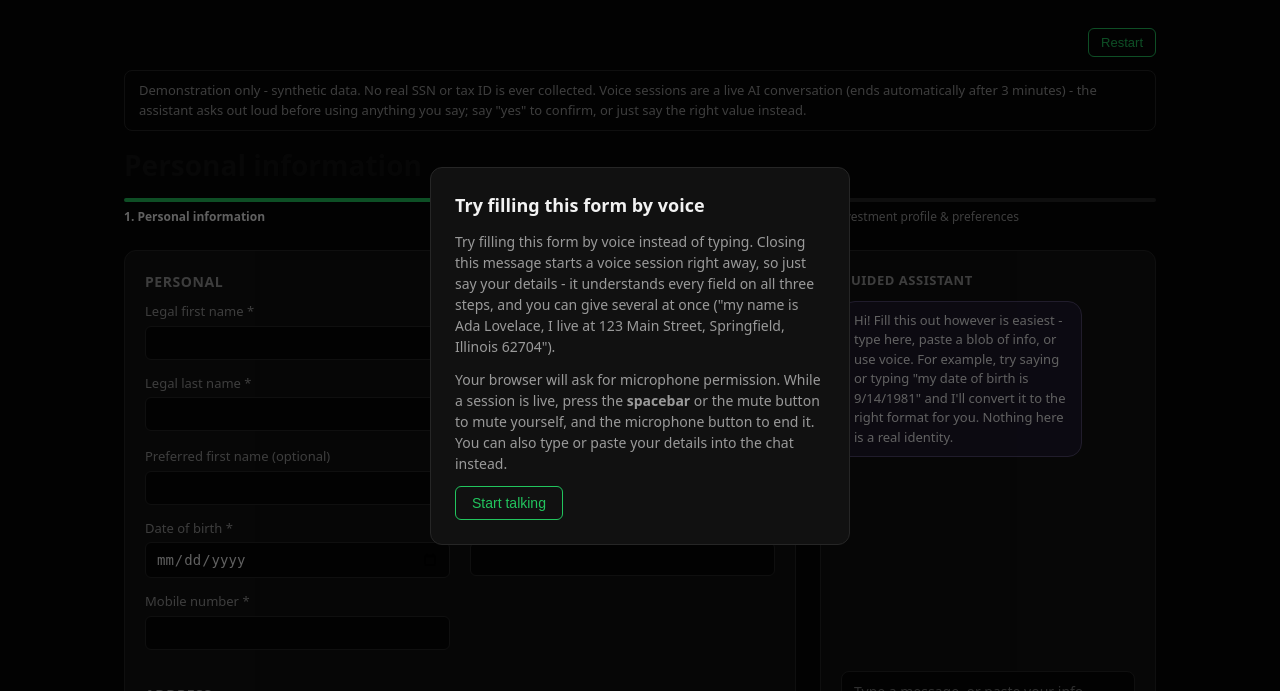
Test case: PersonalInformationPage › shows a generic message when nothing could be extracted from the message
The width and height of the screenshot is (1280, 691).
Click the button "Start talking": (509, 503) 455,486 -> 563,520
(page scrolled)
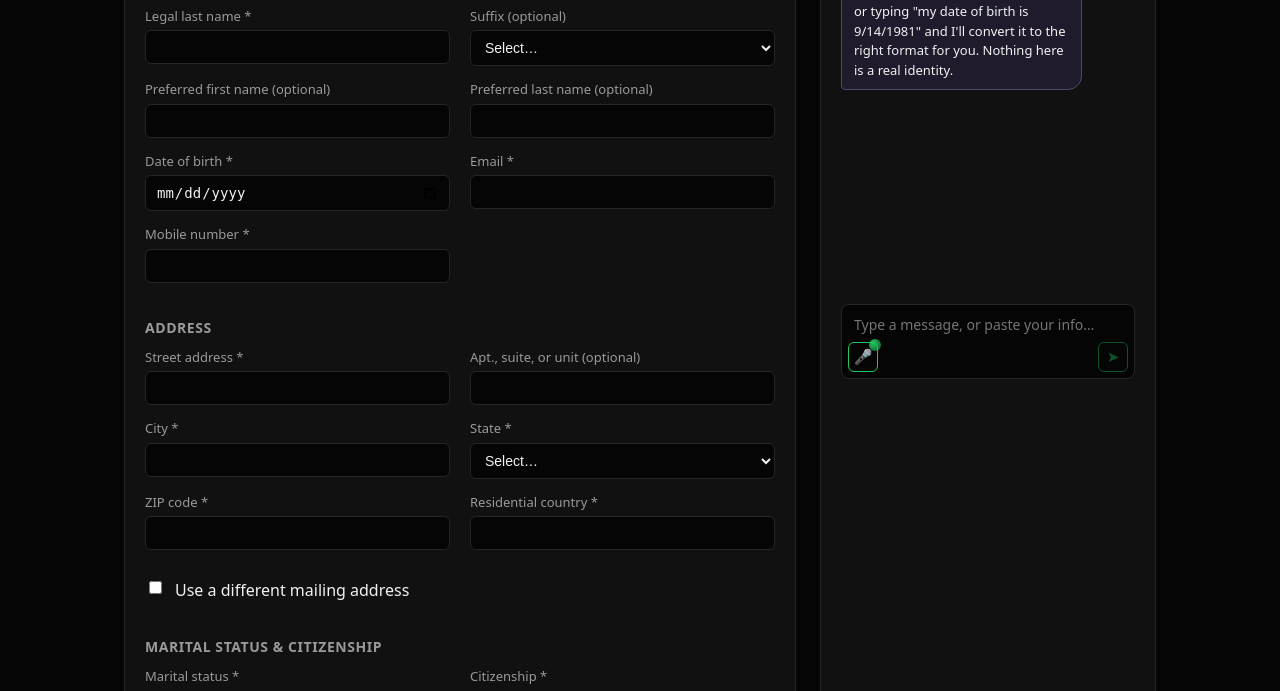
Click the button "🎤": (863, 356) 848,342 -> 878,372
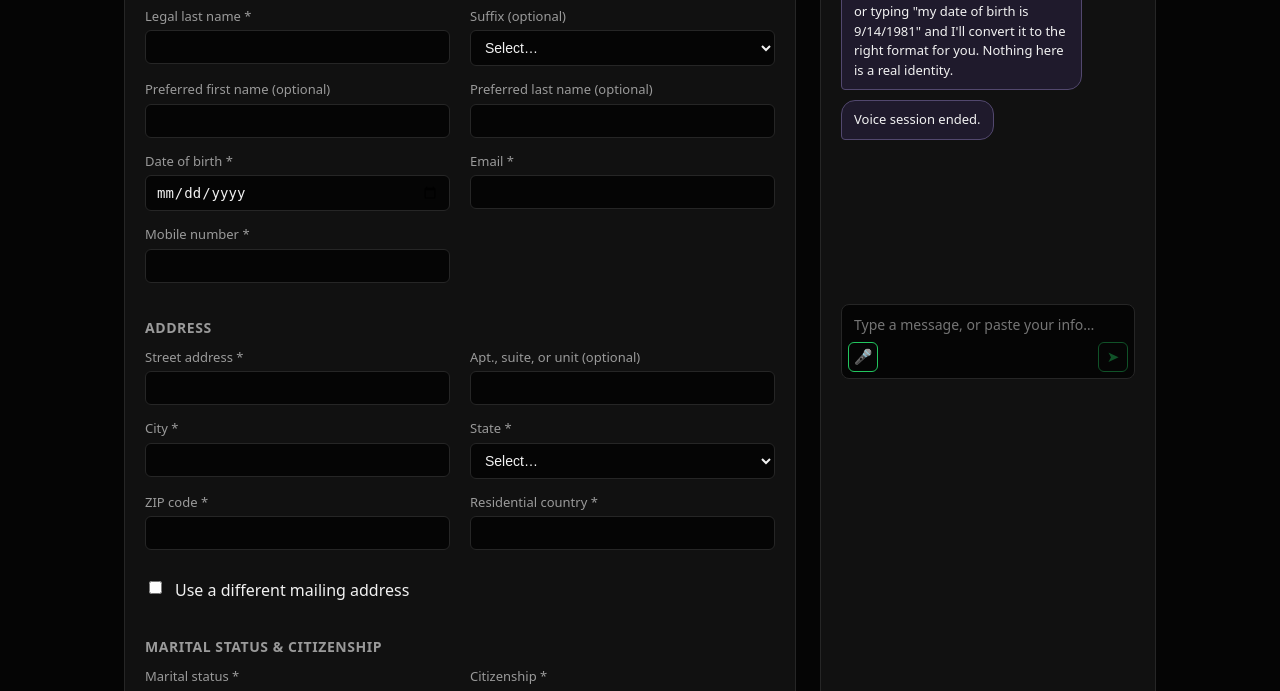
In the text box with placeholder "Type a message, or paste your info…": (988, 321) 842,304 -> 1134,338, type "hello there"
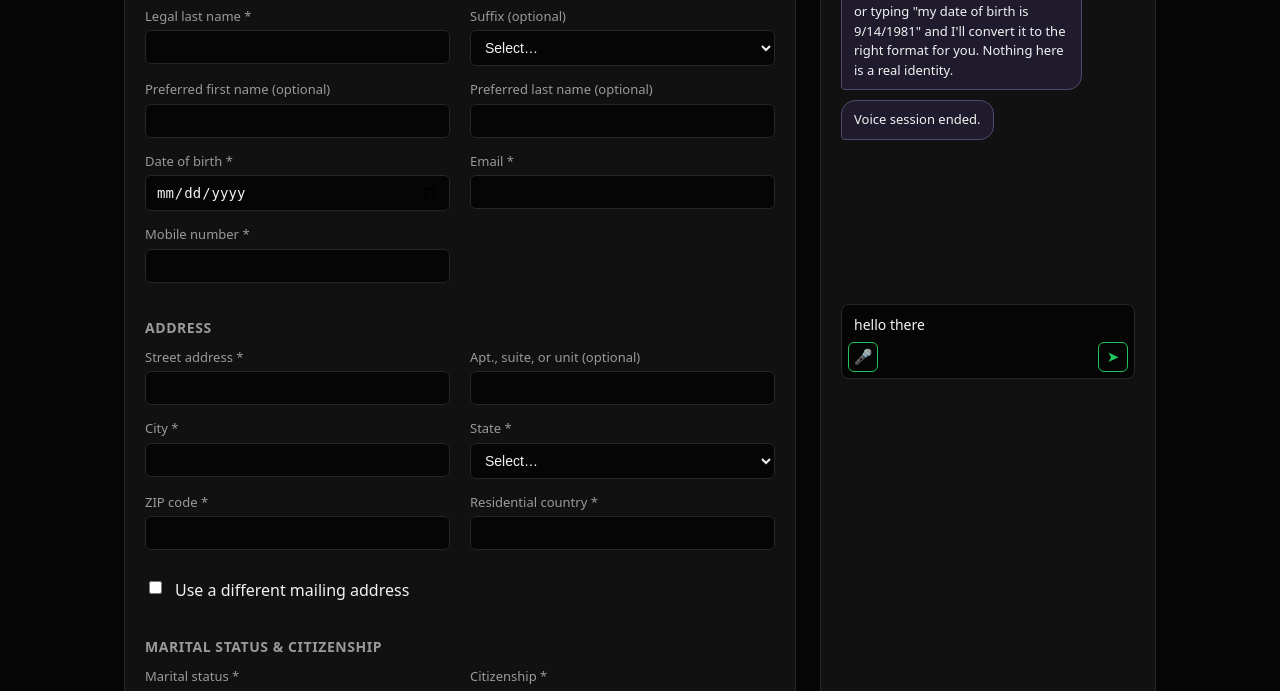
Click the button named "send": (1113, 356) 1098,342 -> 1128,372
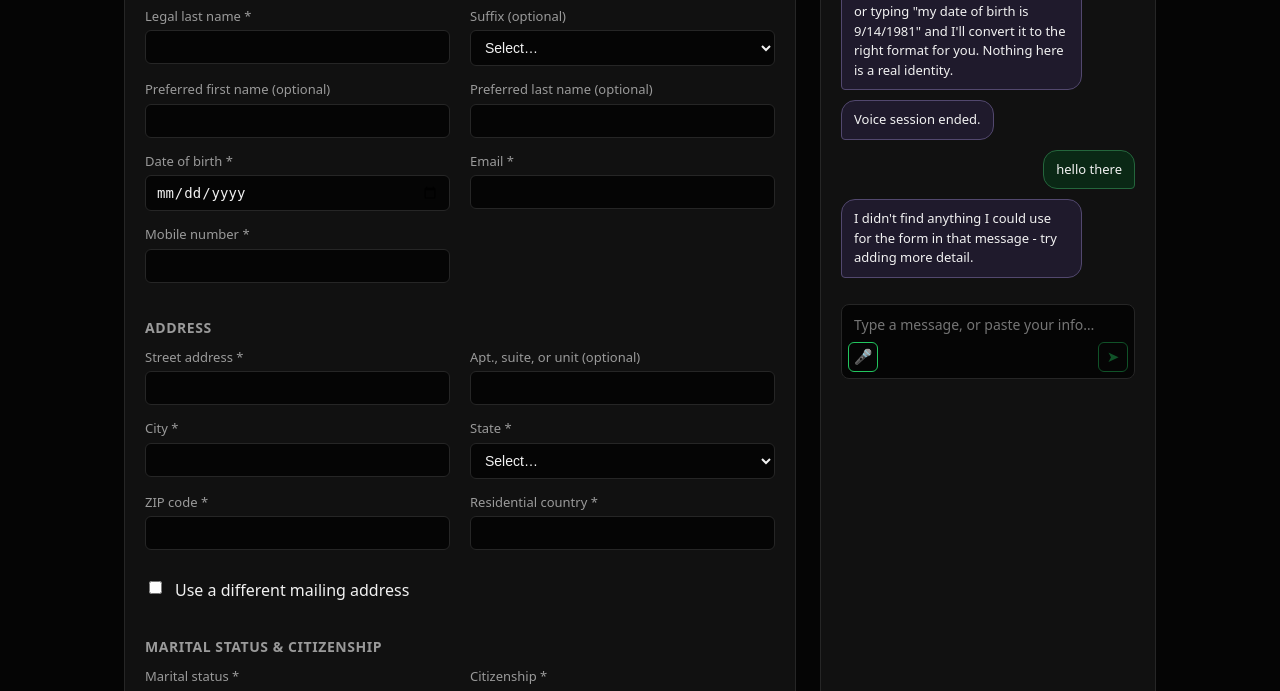
Check: the text "didn't find anything" is shown, box 854,209 -> 1057,266
